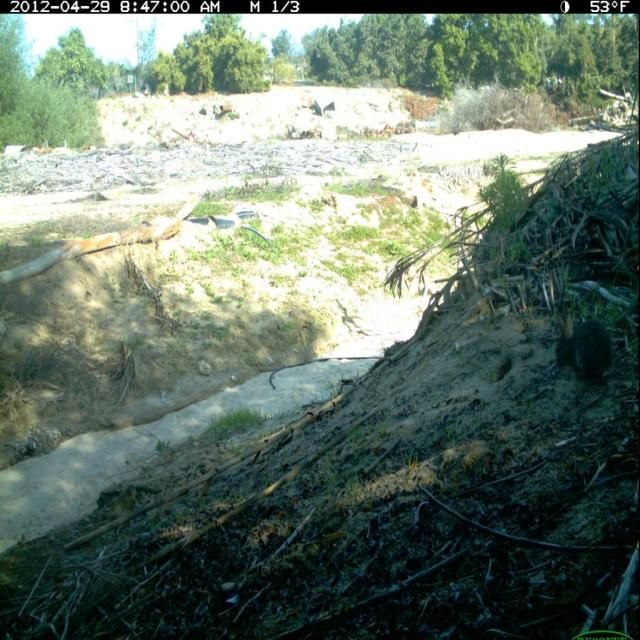rabbit: (551, 309, 617, 393)
